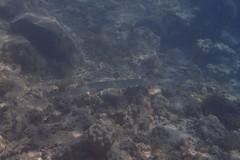Fistularia commersonii: (38, 60, 186, 102)
